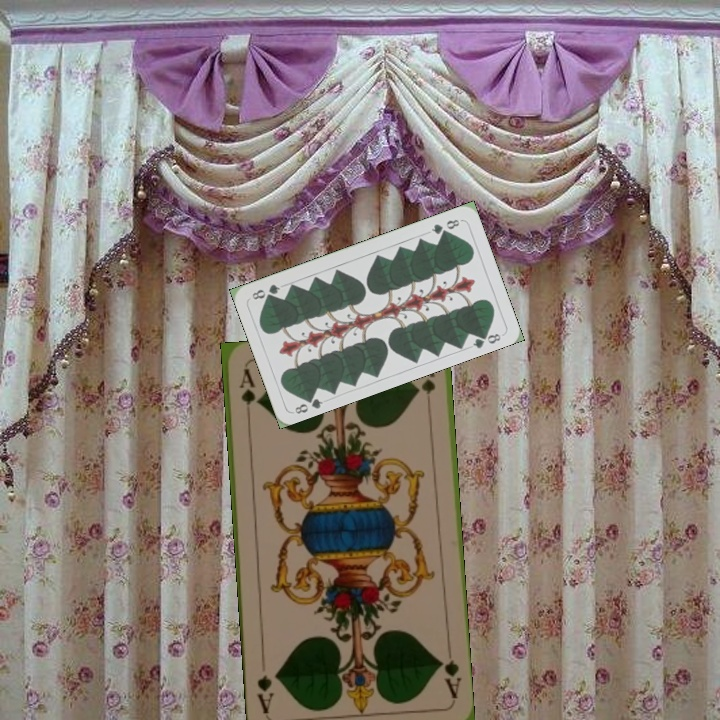G8: (291, 391, 325, 417), (427, 215, 464, 237)
GA: (435, 643, 464, 702), (235, 366, 258, 425)
